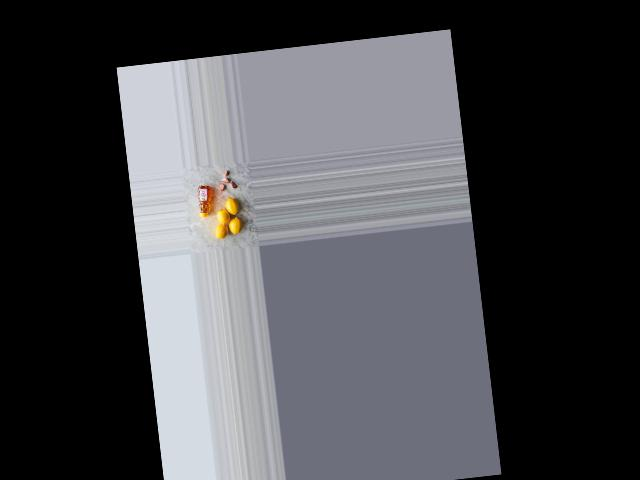lemon: (222, 195, 242, 217)
